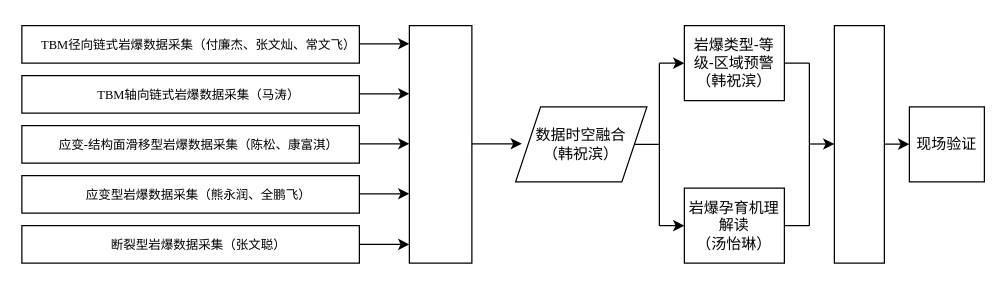
The diagram is 1006 pixels wide and 289 high, and some of its shapes have lost their labels. Here are the shapes that lost their labels. From the top down, the centre of each, then its label:
point 440,143: 相似案例数据集构建
point 858,143: 系 统 集 成 与 交 互 设 计
